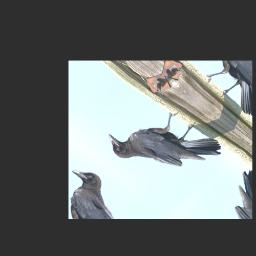Crow: (100, 91, 227, 200)
